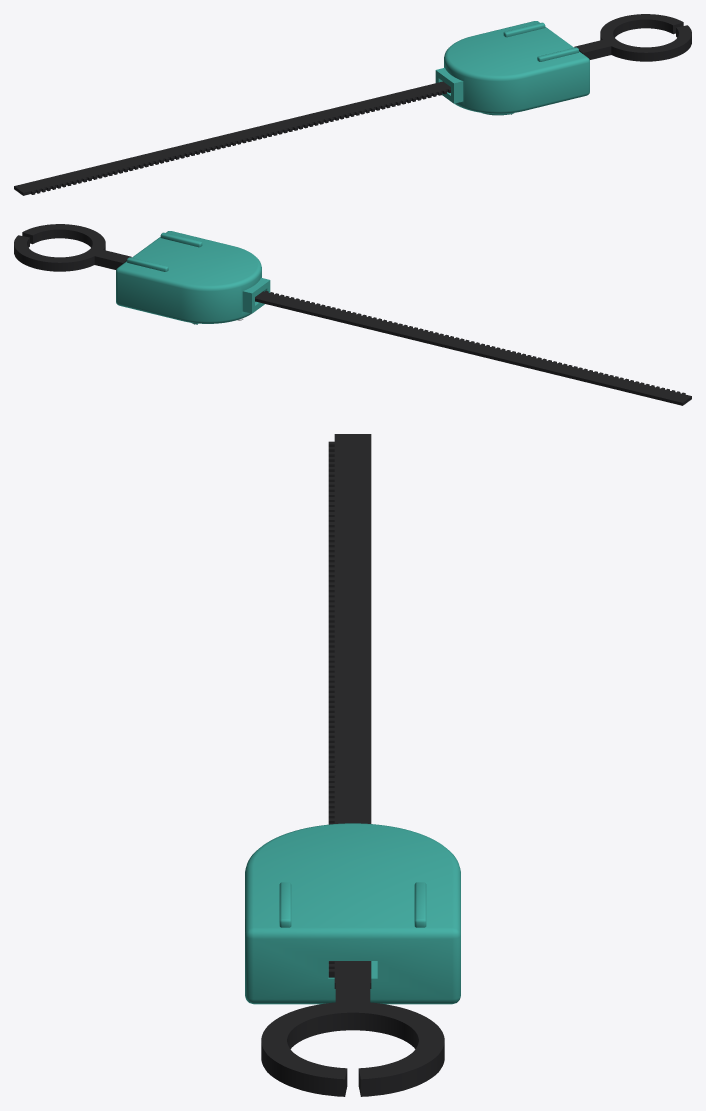
The model's file is launcher.glb.
3 renders of one model, top to bottom at view 1: azimuth 30°, elevation 25°; view 2: azimuth 150°, elevation 25°; view 3: azimuth 270°, elevation 25°, orthographic. The views are drawn at different scales.
Visible parts, largest first — view 1: Launcher_Body, Ripcord; view 2: Launcher_Body, Ripcord; view 3: Launcher_Body, Ripcord.
Boxes of the visible parts, left/top/right/bottom form: Launcher_Body: left=435, top=21, right=589, bottom=113; Ripcord: left=14, top=14, right=691, bottom=195; Launcher_Body: left=116, top=231, right=270, bottom=323; Ripcord: left=14, top=224, right=691, bottom=405; Launcher_Body: left=245, top=823, right=460, bottom=1004; Ripcord: left=261, top=434, right=444, bottom=1096.
Bounding box in the file's own units: 0.2852 × 0.022 × 0.04.
